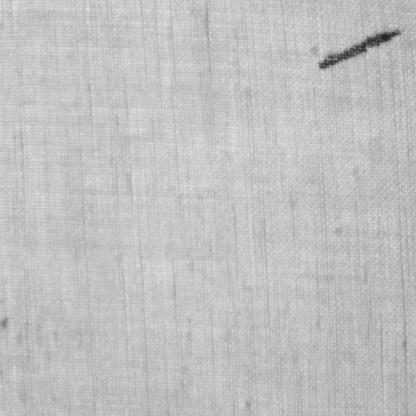oil spot: (316, 26, 402, 70)
